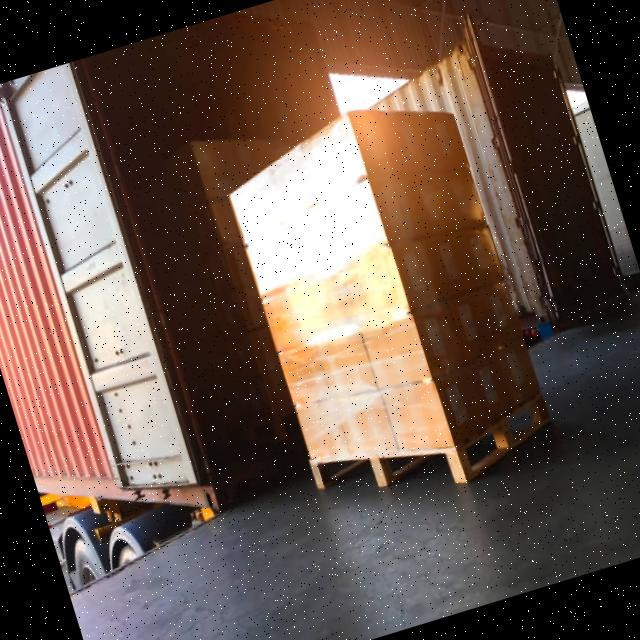Wooden-Pallets: (307, 382, 561, 495)
